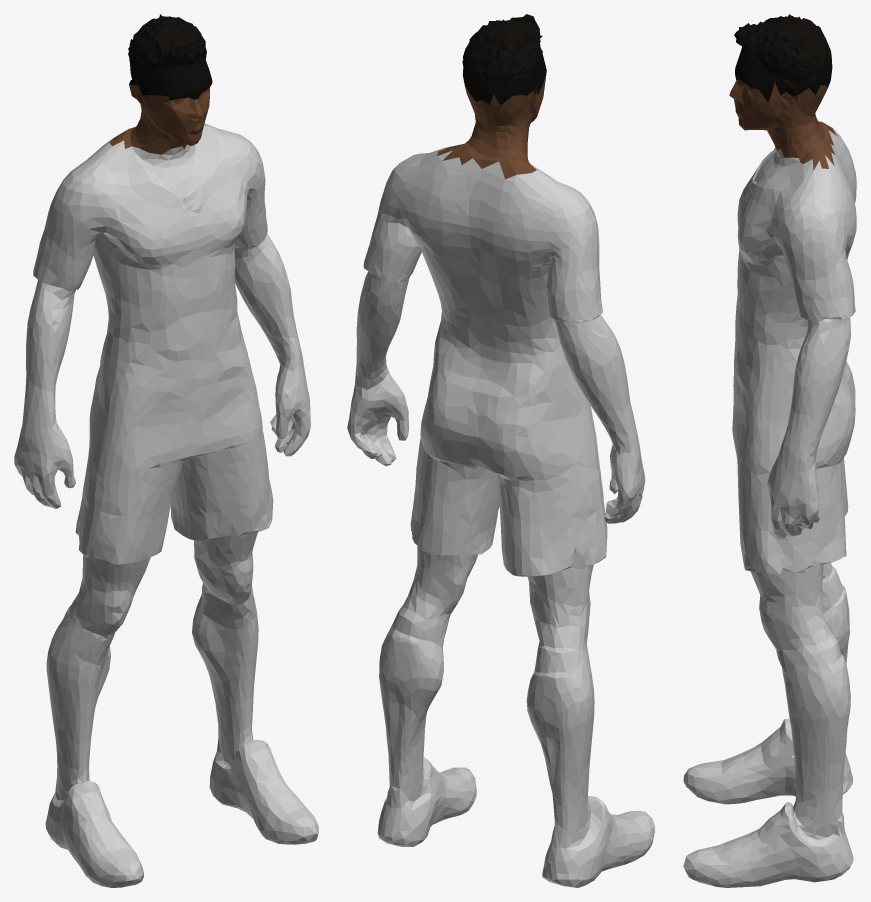
Rendered from teamA_player_03.obj.
3 views of the same model, side by side, from view 1: azimuth 30°, elevation 25°; view 2: azimuth 150°, elevation 25°; view 3: azimuth 270°, elevation 25° (orthographic).
Parts seen in each view (by area): view 1: teamA_player_03_Mesh; view 2: teamA_player_03_Mesh; view 3: teamA_player_03_Mesh.
Boxes of the visible parts, x1,y1,x2,y2 form: teamA_player_03_Mesh: [14, 14, 318, 887]; teamA_player_03_Mesh: [347, 14, 654, 887]; teamA_player_03_Mesh: [683, 14, 856, 887].
Size of the model in its own units: 0.6564 by 1.8 by 0.3463.
